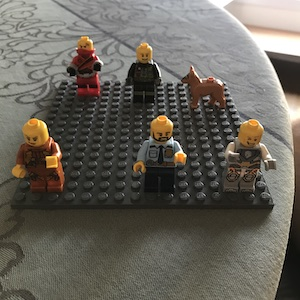Lego: (132, 114, 186, 198), (11, 116, 65, 197), (222, 118, 278, 193), (66, 34, 104, 98), (126, 43, 164, 101)
